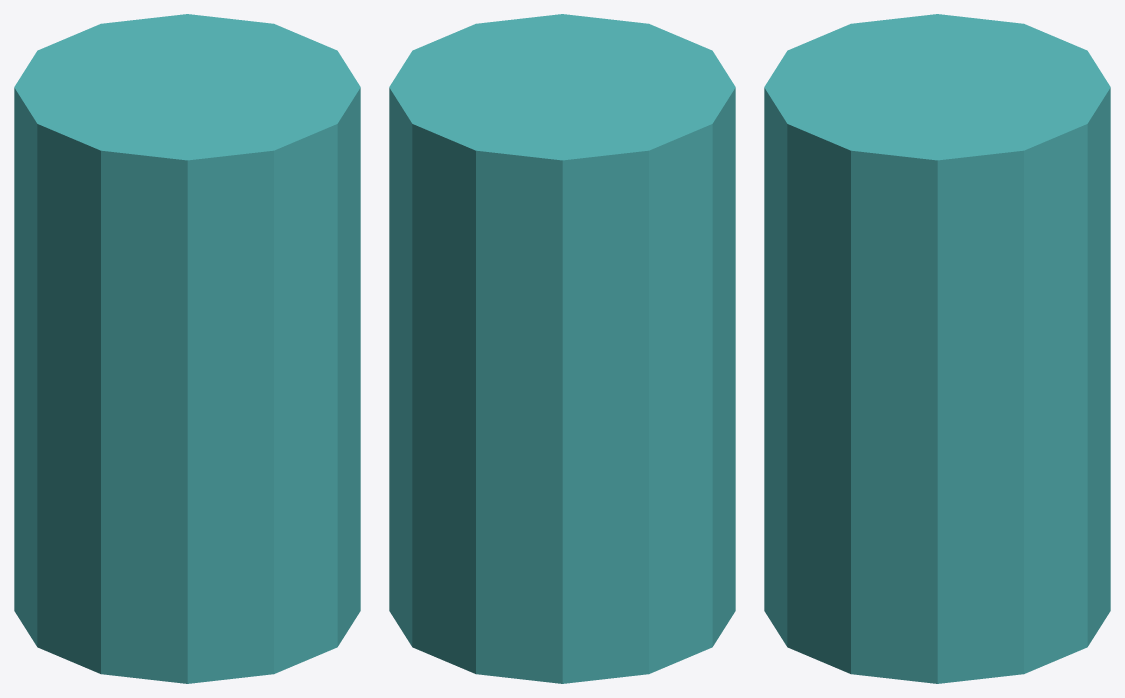
The picture shows the model from 3 angles, left to right: view 1: azimuth 30°, elevation 25°; view 2: azimuth 150°, elevation 25°; view 3: azimuth 270°, elevation 25°; orthographic projection.
Parts seen in each view (by area): view 1: pCylinder3; view 2: pCylinder3; view 3: pCylinder3.
Boxes of the visible parts, x1=… form: pCylinder3: x1=14, y1=14, x2=360, y2=683; pCylinder3: x1=389, y1=14, x2=735, y2=683; pCylinder3: x1=764, y1=14, x2=1110, y2=683.
Bounding box in the file's own units: 1.5 × 2.5 × 1.5.
